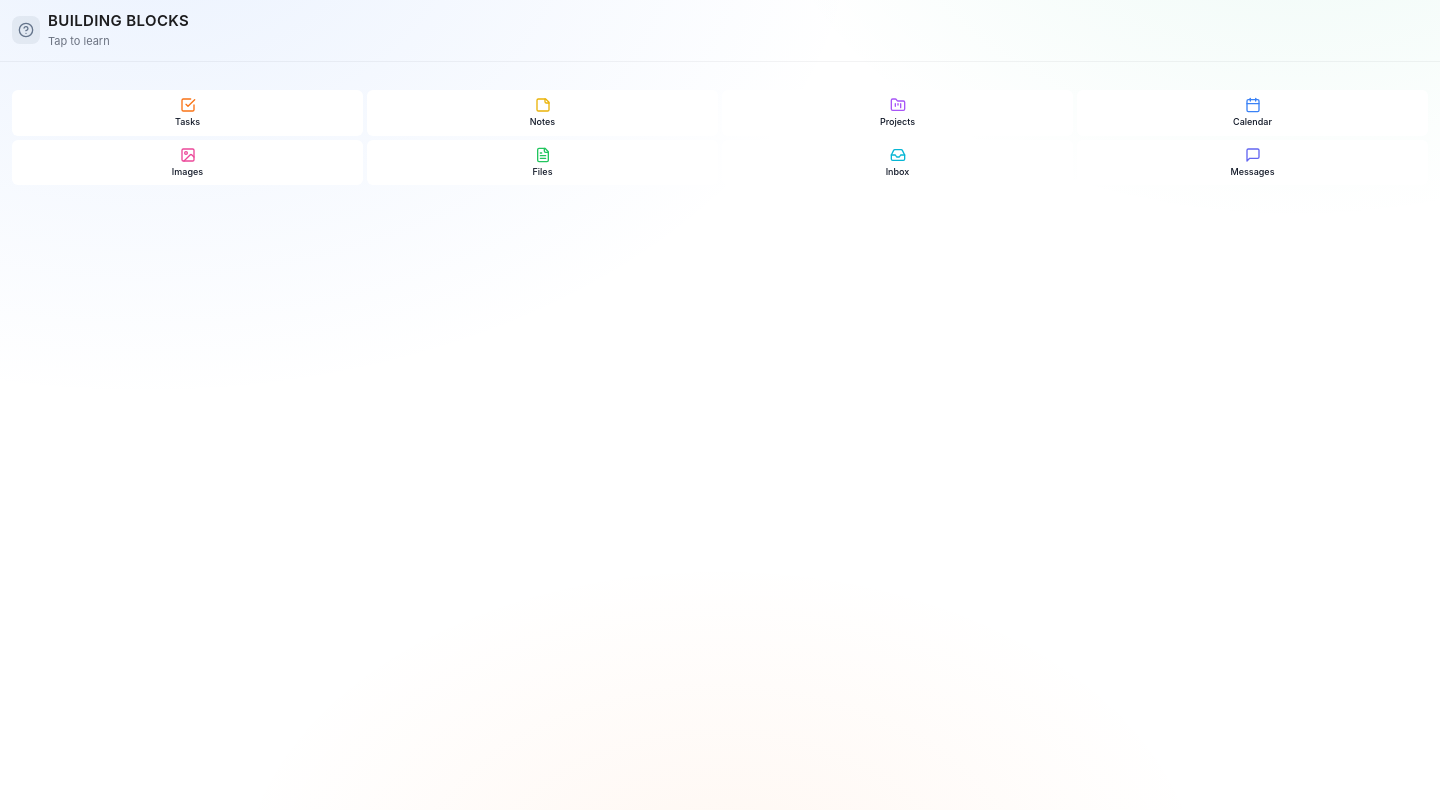
Test case: FeatureGuideWidget › Feature Selection › closes feature info when clicking close button
Click the button "Calendar". click: (1252,113)
box: [1077,90,1428,136]
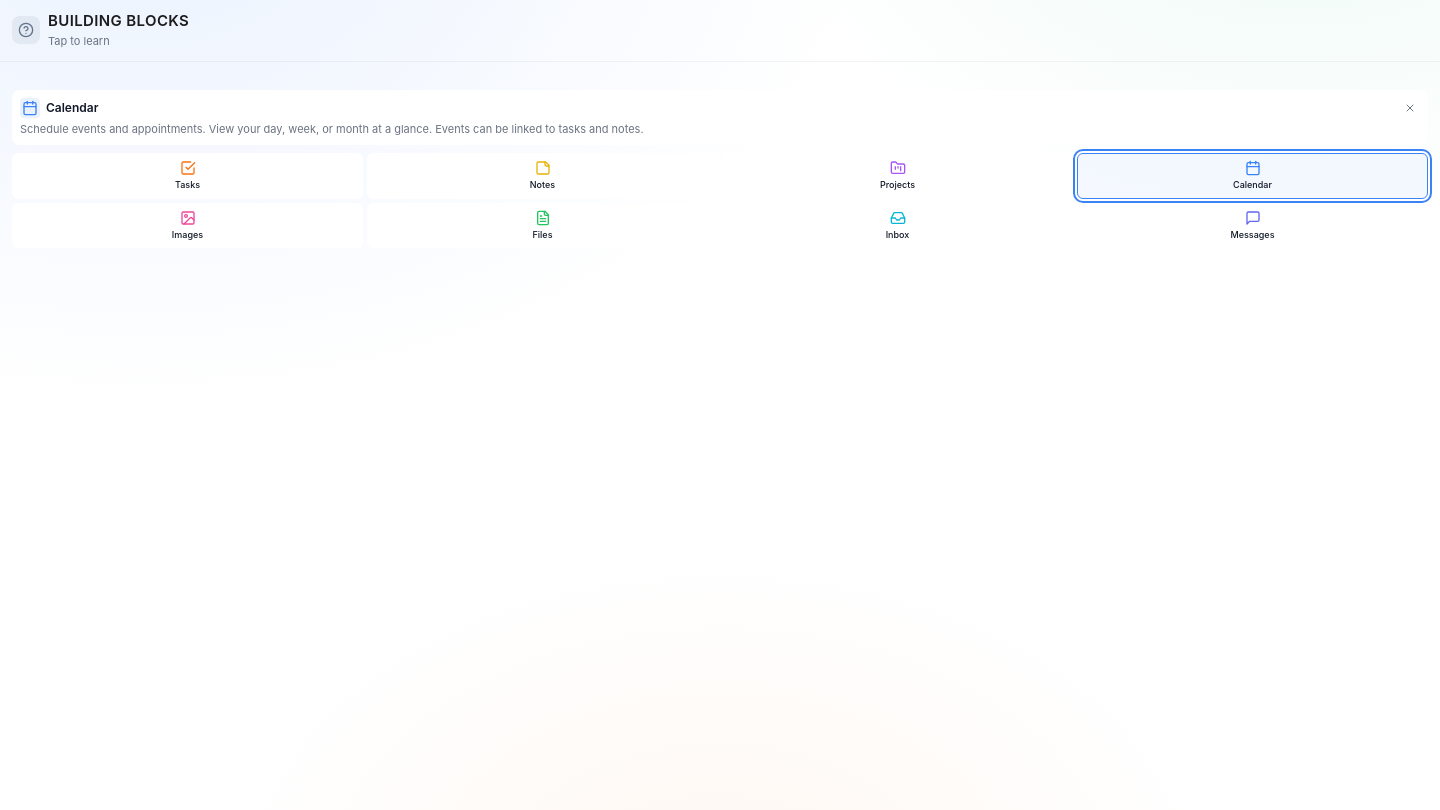
Result: the text "Schedule events and appointments" is shown at [20,122,644,136]
Click the button with class "feature-guide-info-close". click: (1410,108)
box: [1400,98,1420,118]
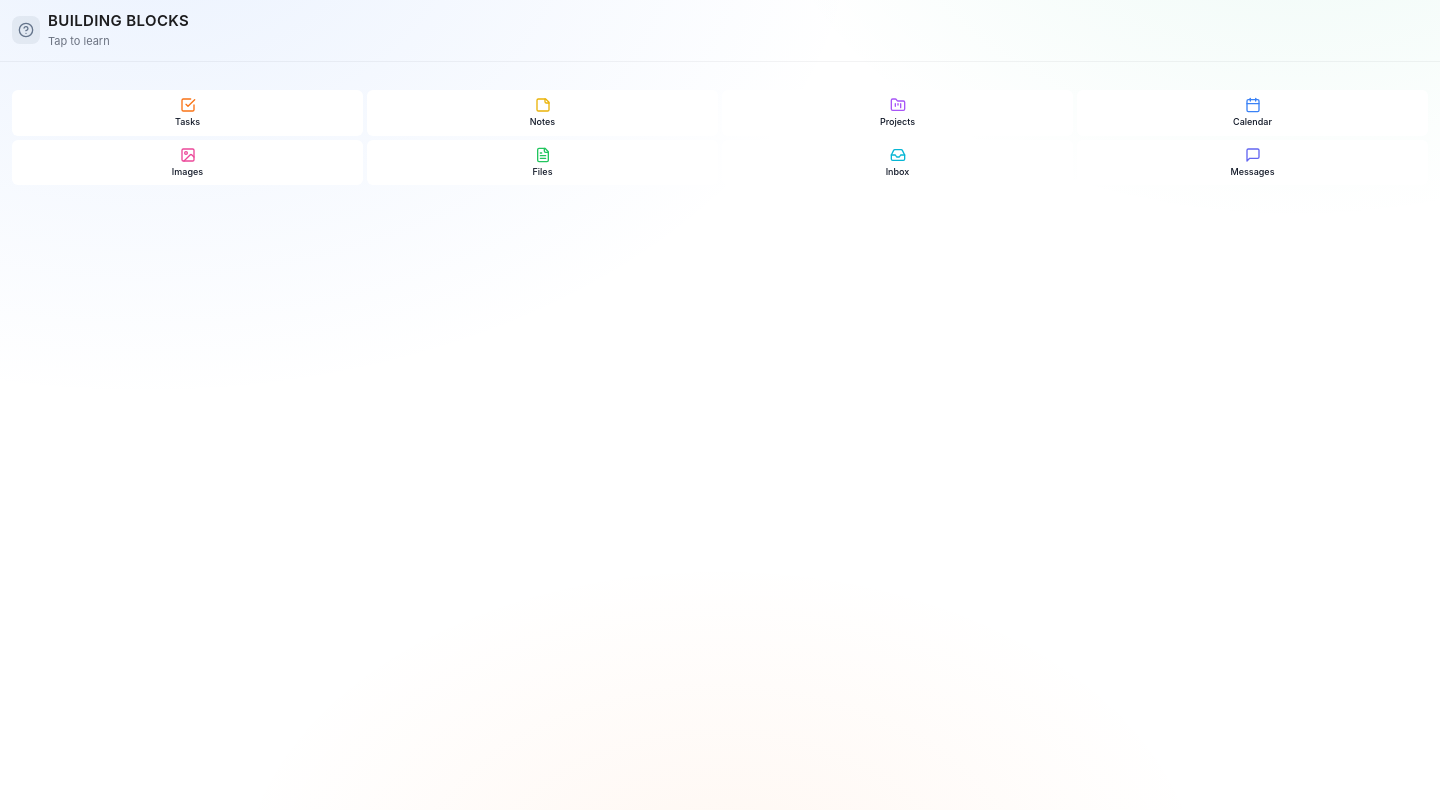
Result: the text "Schedule events and appointments" is gone
